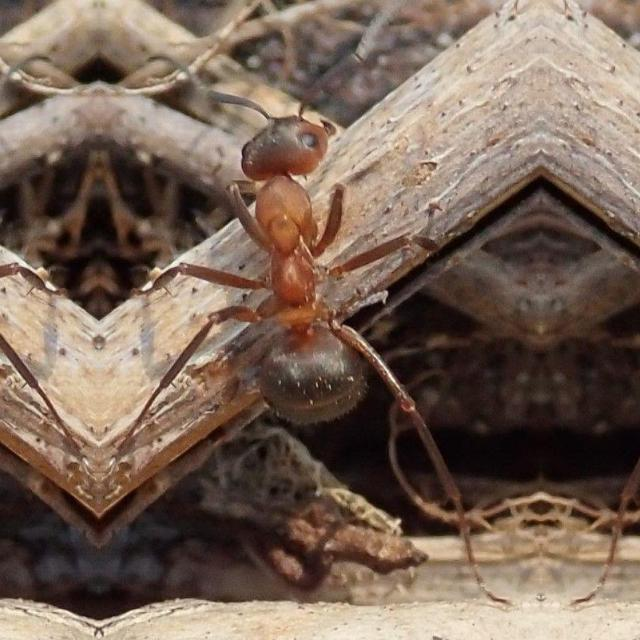Formica: (193, 76, 413, 432)
